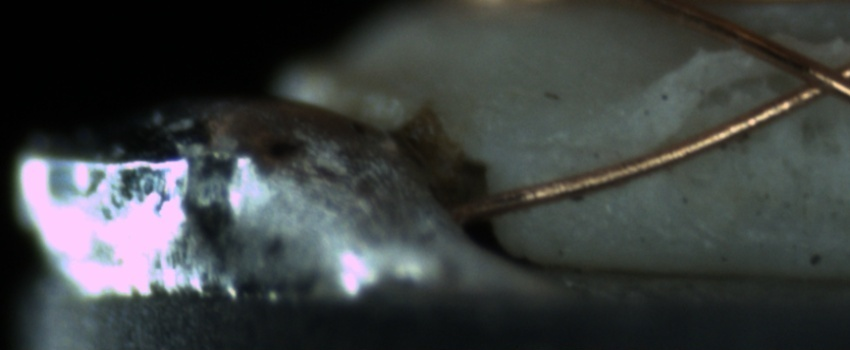CL: (762, 39, 848, 114)
DL: (507, 118, 633, 173)
